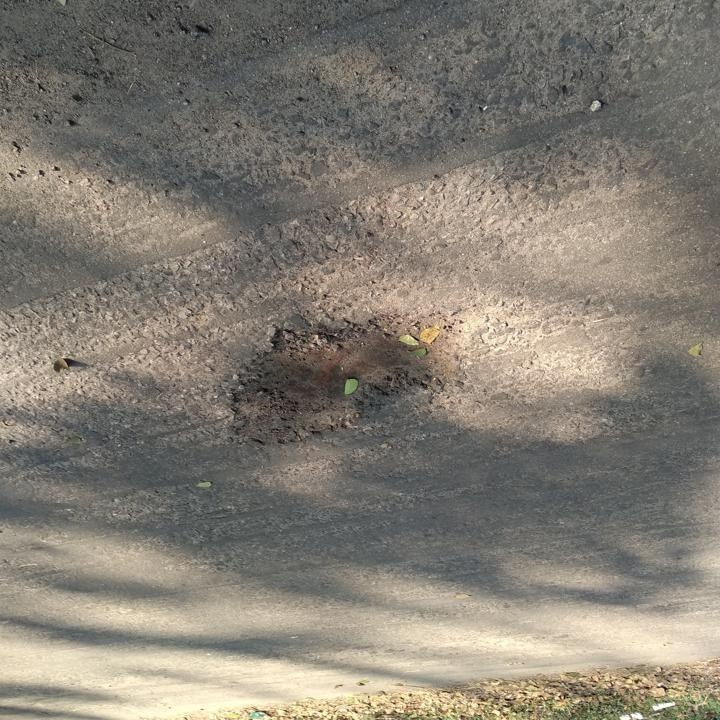pothole: (220, 305, 470, 450)
